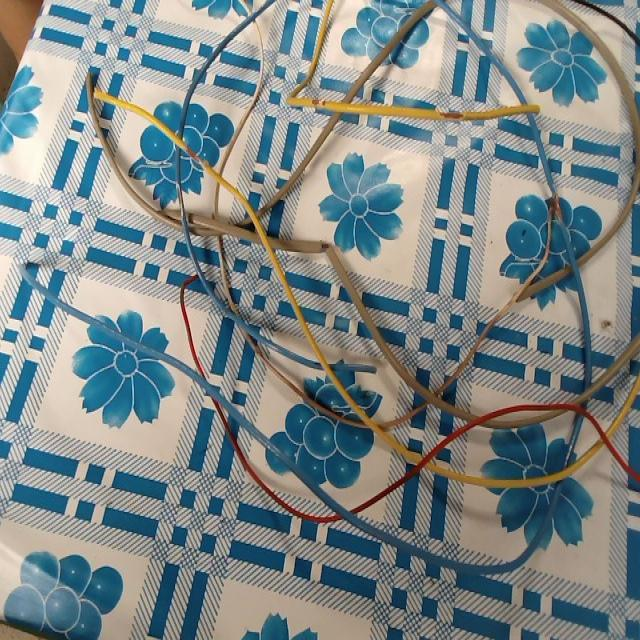-: (547, 187, 568, 224), (181, 137, 205, 167), (171, 179, 186, 224), (438, 105, 464, 124), (309, 91, 330, 112), (316, 238, 335, 254)
